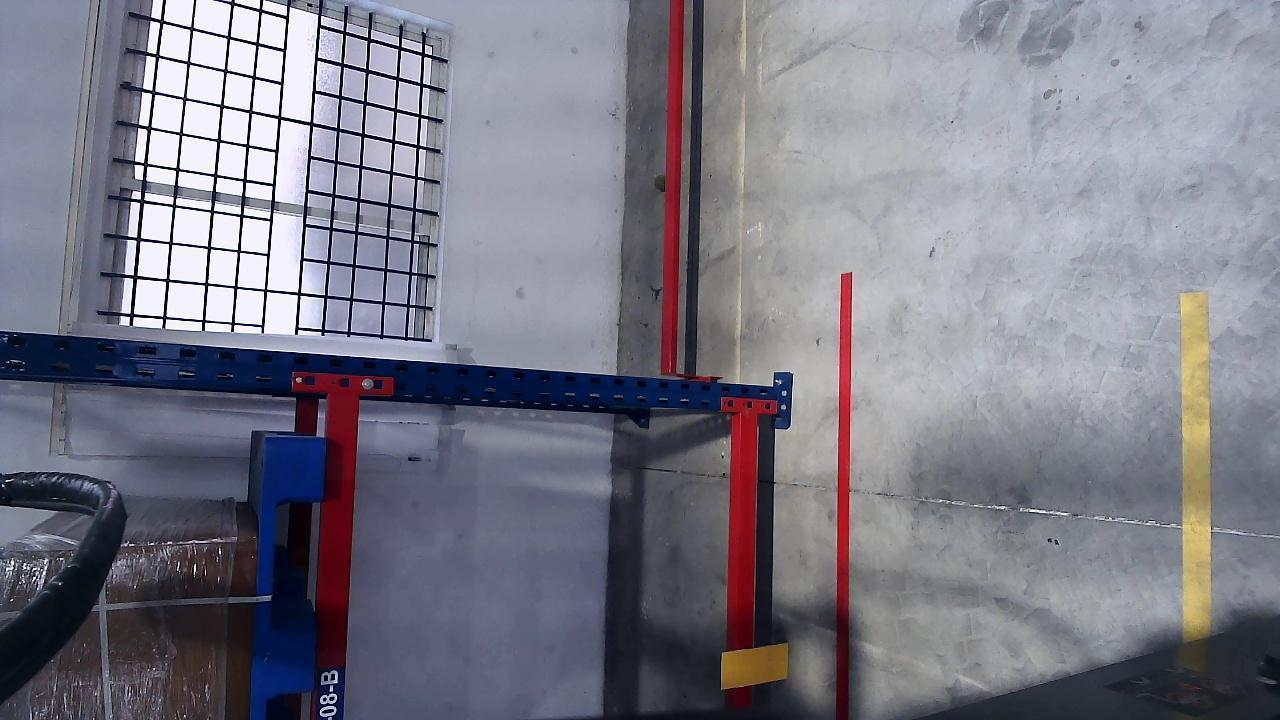red_line: (834, 269, 854, 714)
yellow_line: (1180, 298, 1213, 635)
